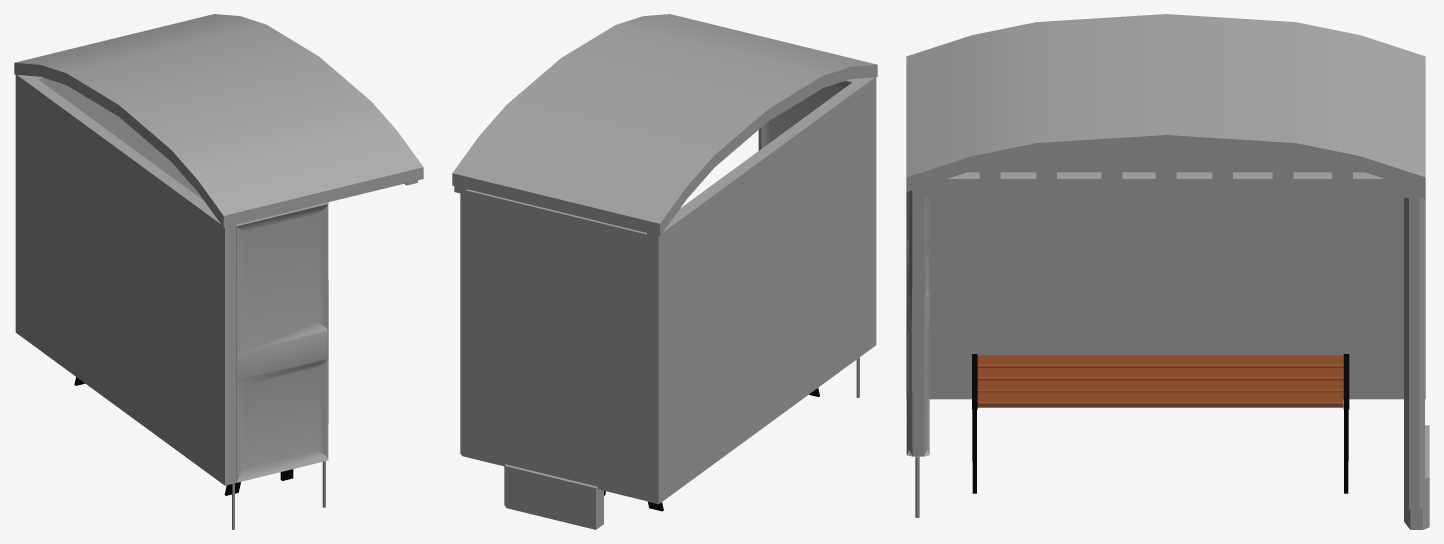
File: Buss_Station.fbx
The picture shows the model from 3 angles, left to right: view 1: azimuth 30°, elevation 25°; view 2: azimuth 150°, elevation 25°; view 3: azimuth 270°, elevation 25°; orthographic projection. The views are drawn at different scales.
Visible parts, largest first — view 1: Buss_Stattion; view 2: Buss_Stattion; view 3: Buss_Stattion.
Boxes of the visible parts, x1,y1,x2,y2 form: Buss_Stattion: (14, 14, 423, 529); Buss_Stattion: (452, 14, 877, 529); Buss_Stattion: (906, 14, 1429, 529).
Size of the model in its own units: 4.07 by 6.89 by 7.43.
